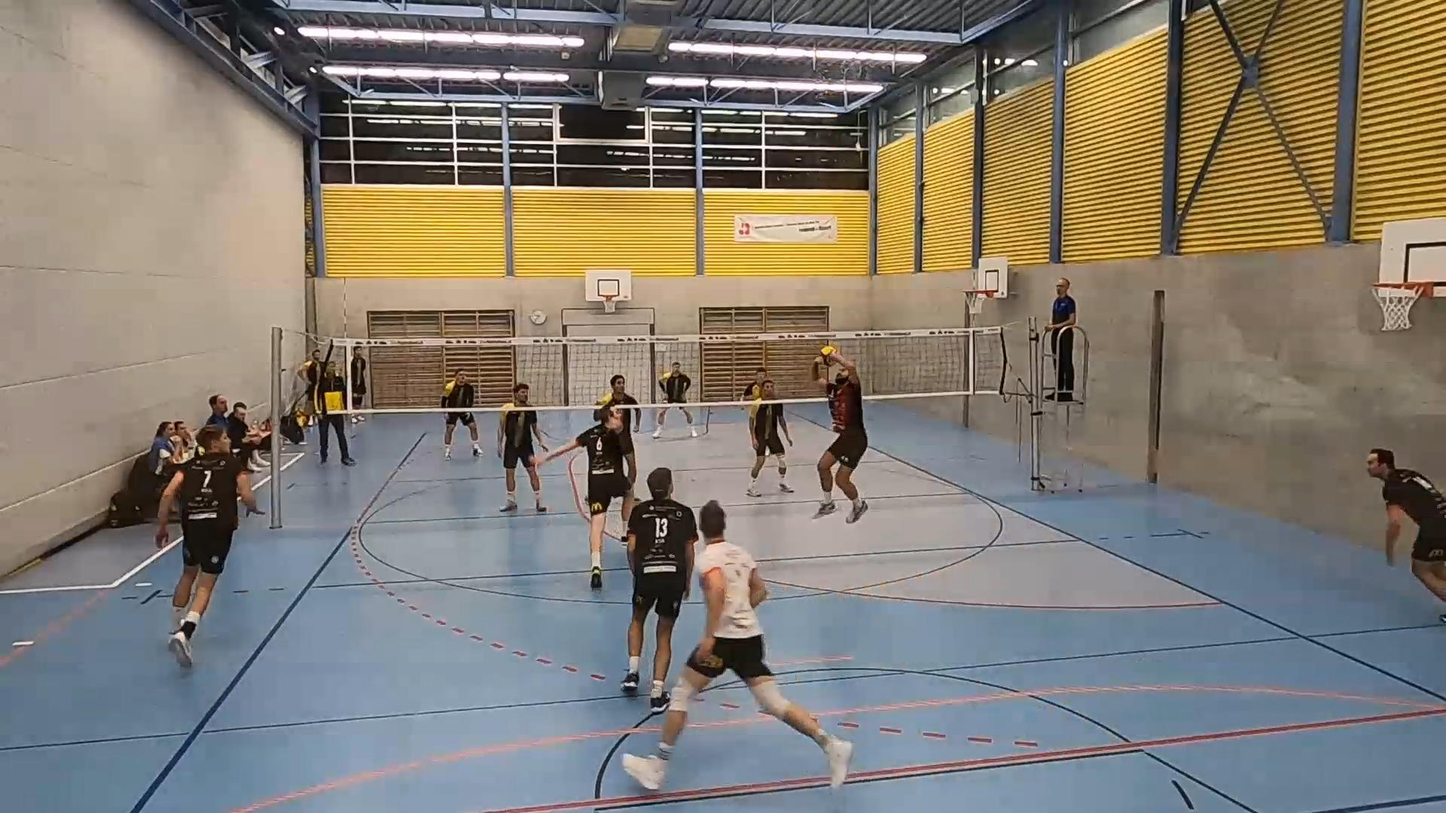Player: (622, 501, 853, 790), (155, 425, 262, 665), (621, 467, 697, 711), (541, 406, 629, 589), (1367, 449, 1445, 601), (498, 383, 546, 512), (599, 374, 640, 522), (746, 379, 792, 496), (441, 370, 481, 458), (653, 361, 697, 438), (740, 367, 767, 400)
Set: (811, 357, 874, 524)
ball: (816, 347, 838, 359)
